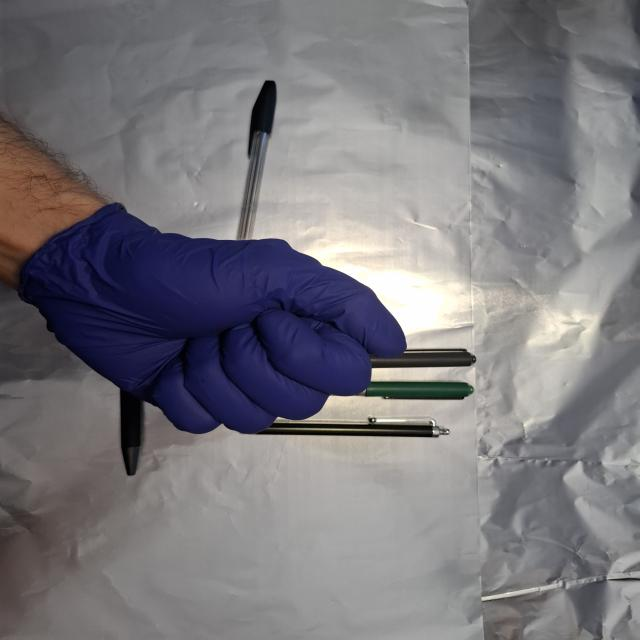glove_on: (17, 191, 412, 442)
